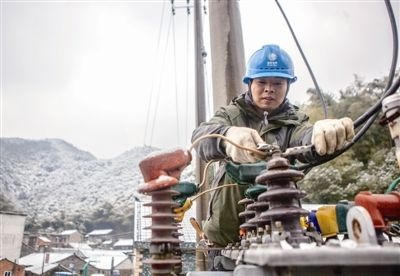blue: (243, 39, 294, 111)
